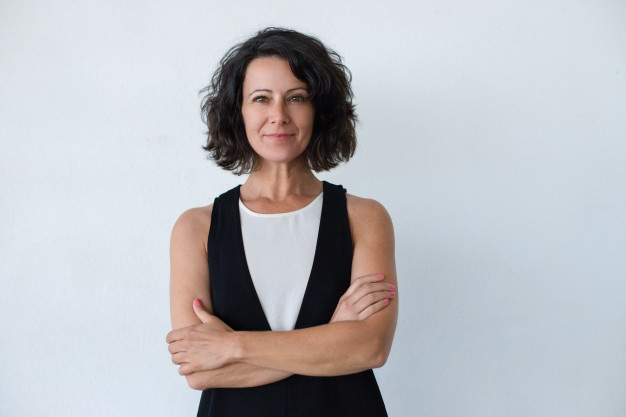Without Helmet: (216, 21, 351, 194)
